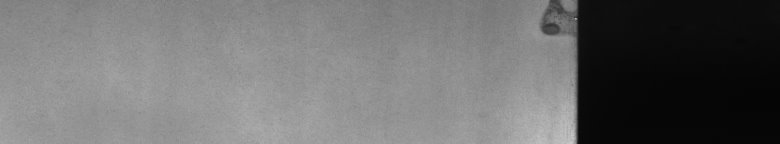hb: (533, 4, 568, 44)
